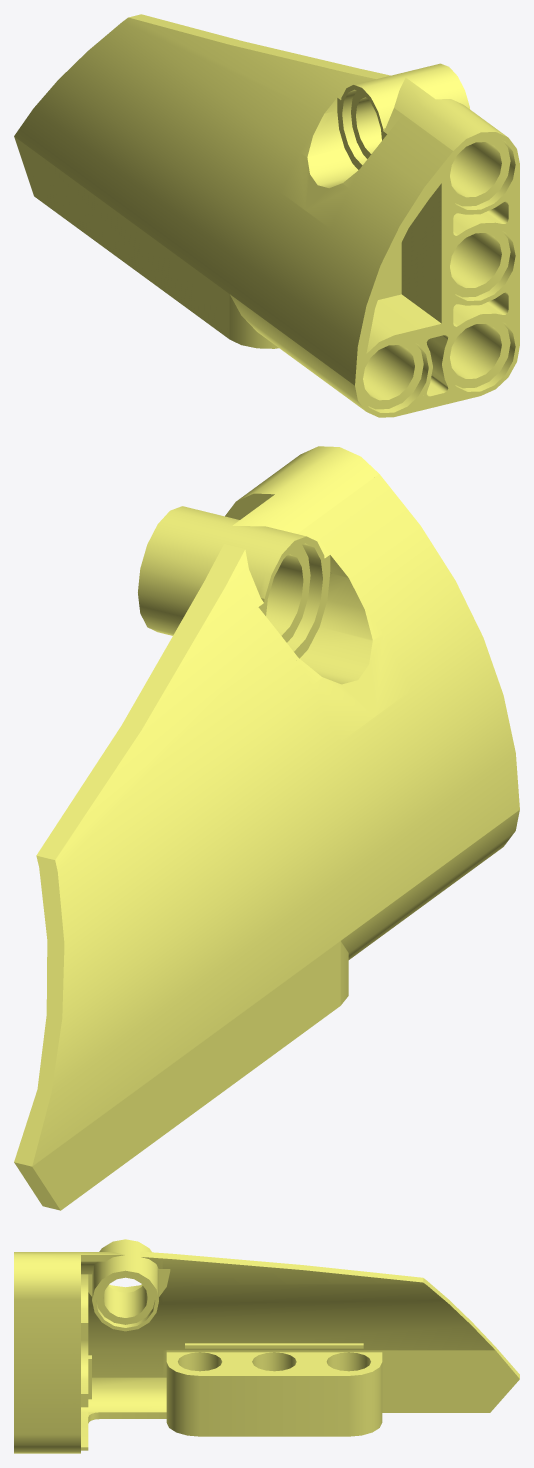
3 views of the same model, one above another, from view 1: azimuth 30°, elevation 25°; view 2: azimuth 150°, elevation 25°; view 3: azimuth 270°, elevation 25° (orthographic). The views are drawn at different scales.
Visible parts, largest first — view 1: 64683.dat; view 2: 64683.dat; view 3: 64683.dat.
Part boxes in pixels (x1,y1,x2,y2): 64683.dat: (14,14,519,417); 64683.dat: (14,446,519,1210); 64683.dat: (14,1239,519,1453).
Size of the model in its own units: 0.0156 by 0.0236 by 0.0544.
